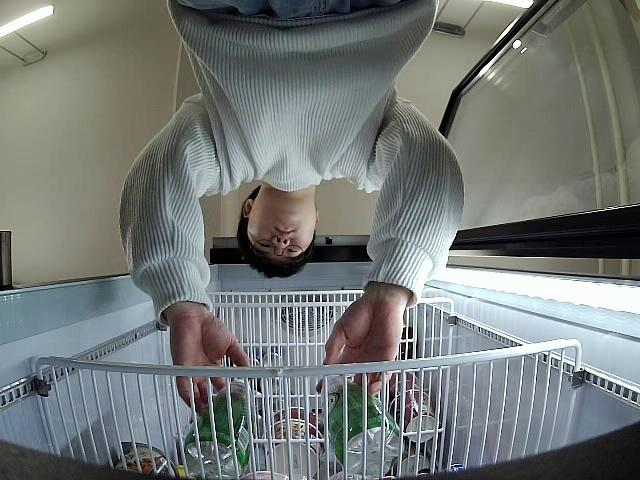00_hand: (316, 293, 405, 397), (171, 315, 249, 415)
19_17cha: (321, 375, 401, 480), (183, 381, 255, 480)
